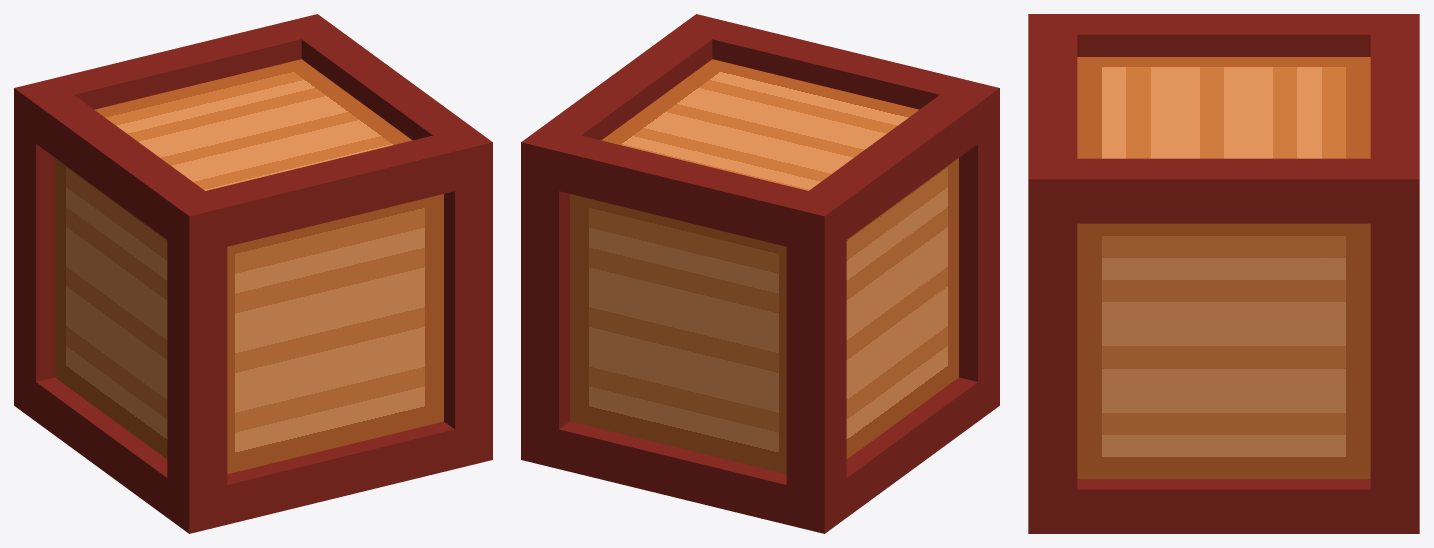
3 renders of one model, left to right at view 1: azimuth 30°, elevation 25°; view 2: azimuth 150°, elevation 25°; view 3: azimuth 270°, elevation 25°, orthographic. The views are drawn at different scales.
Visible parts, largest first — view 1: cube, cube_5, cube_4, cube_9, cube_8, cube_10, cube_7, cube_11, cube_2, cube_6, cube_3; view 2: cube, cube_8, cube_3, cube_11, cube_5, cube_12, cube_7, cube_9, cube_2, cube_6, cube_4; view 3: cube, cube_6, cube_1, cube_10, cube_12, cube_7, cube_5, cube_8, cube_3, cube_4.
Part boxes in pixels (left/top/right/bottom): cube: left=55, top=59, right=443, bottom=474; cube_5: left=167, top=126, right=492, bottom=255; cube_4: left=167, top=420, right=492, bottom=533; cube_9: left=167, top=240, right=227, bottom=494; cube_8: left=14, top=14, right=338, bottom=143; cube_10: left=444, top=182, right=492, bottom=429; cube_7: left=36, top=95, right=204, bottom=239; cube_11: left=14, top=128, right=54, bottom=381; cube_2: left=36, top=377, right=167, bottom=517; cube_6: left=301, top=30, right=470, bottom=140; cube_3: left=14, top=366, right=35, bottom=421; cube: left=570, top=59, right=958, bottom=474; cube_8: left=521, top=126, right=846, bottom=255; cube_3: left=521, top=420, right=846, bottom=533; cube_11: left=786, top=240, right=846, bottom=494; cube_5: left=675, top=14, right=999, bottom=143; cube_12: left=521, top=182, right=569, bottom=429; cube_7: left=809, top=95, right=977, bottom=239; cube_9: left=959, top=128, right=999, bottom=381; cube_2: left=846, top=377, right=977, bottom=517; cube_6: left=543, top=30, right=712, bottom=140; cube_4: left=978, top=366, right=999, bottom=421; cube: left=1077, top=57, right=1370, bottom=479; cube_6: left=1077, top=158, right=1370, bottom=223; cube_1: left=1077, top=479, right=1370, bottom=533; cube_10: left=1028, top=223, right=1077, bottom=489; cube_12: left=1370, top=223, right=1419, bottom=489; cube_7: left=1077, top=14, right=1370, bottom=56; cube_5: left=1028, top=14, right=1077, bottom=223; cube_8: left=1370, top=14, right=1419, bottom=223; cube_3: left=1370, top=489, right=1419, bottom=533; cube_4: left=1028, top=489, right=1077, bottom=533.
Bounding box in the file's own units: 100 × 100 × 100.
Materials: 1 (1 with a texture image).
